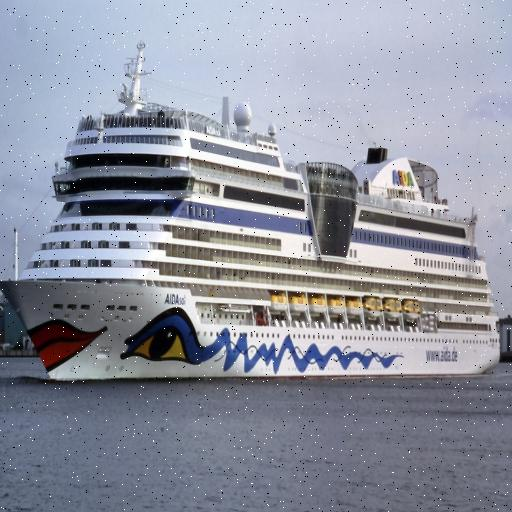cruises: (1, 38, 504, 392)
